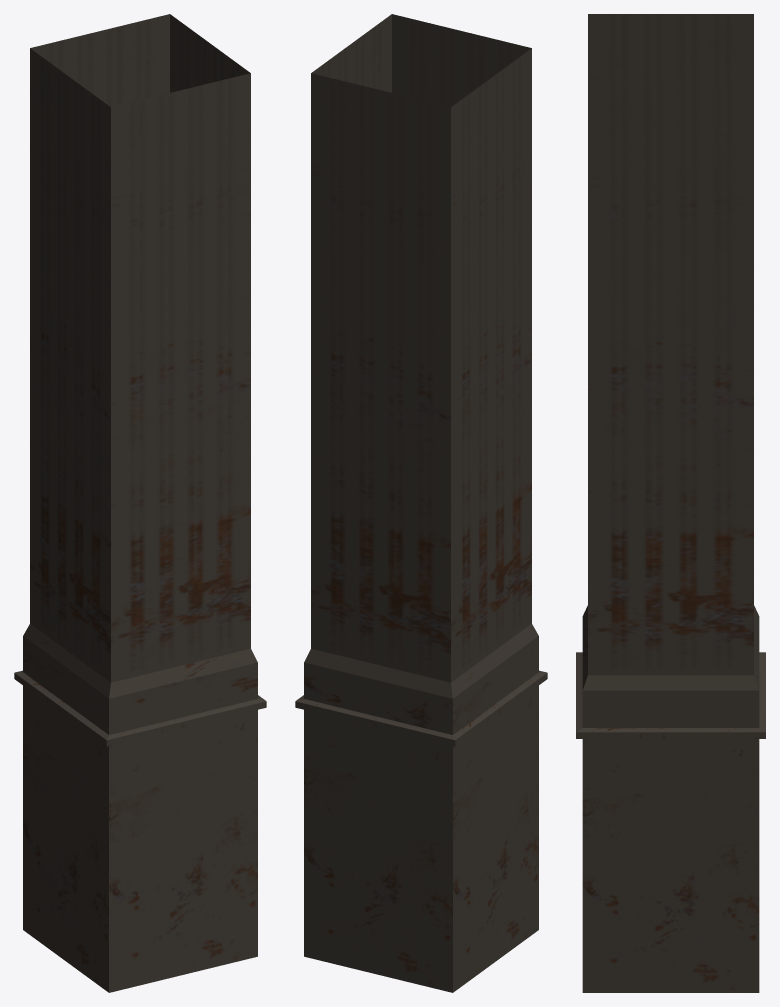
Rendered from Metal_Column_Bottom.gltf.
The picture shows the model from 3 angles, left to right: view 1: azimuth 30°, elevation 25°; view 2: azimuth 150°, elevation 25°; view 3: azimuth 270°, elevation 25°; orthographic projection. The views are drawn at different scales.
Parts seen in each view (by area): view 1: Metal_Column_Bottom; view 2: Metal_Column_Bottom; view 3: Metal_Column_Bottom.
Boxes of the visible parts, x1,y1,x2,y2 form: Metal_Column_Bottom: (14, 14, 266, 992); Metal_Column_Bottom: (295, 14, 547, 992); Metal_Column_Bottom: (576, 14, 765, 992).
Bounding box in the file's own units: 0.569 × 3 × 0.5694.
1 material, 1 textured.
